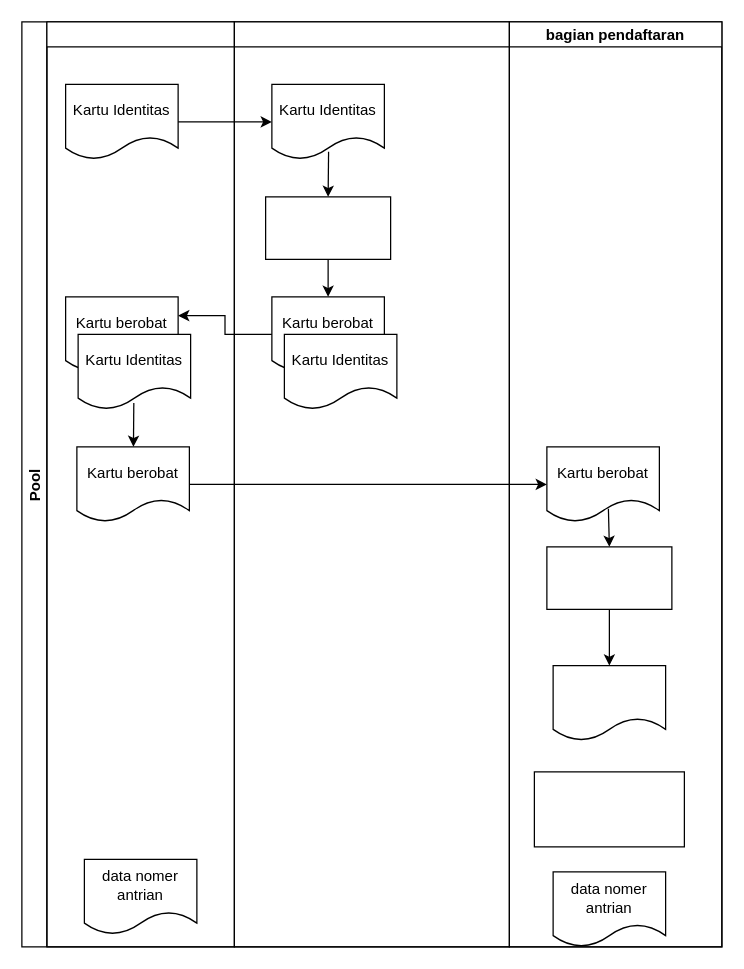
The diagram is 744 pixels wide and 969 high, and some of its shapes have lost their labels. The box of each missing label's shape, as (x1, y1, x2, y2) in pixels:
Bagian administrasi: (233, 21, 509, 947)
cetak nomer antrian: (533, 771, 684, 847)
data Kartu berobat: (552, 664, 666, 741)
Input data pasien dan data perawatan: (546, 546, 672, 609)
Input kartu identitas: (264, 196, 391, 259)
pasien: (46, 21, 234, 947)
